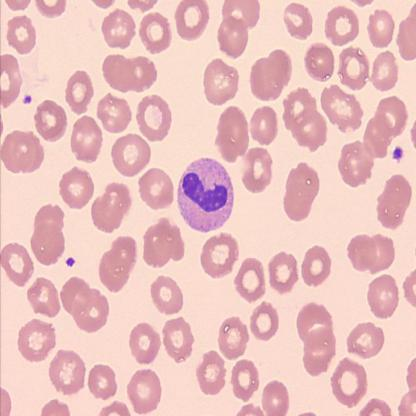Band Neutrophil: (174, 154, 234, 236)
